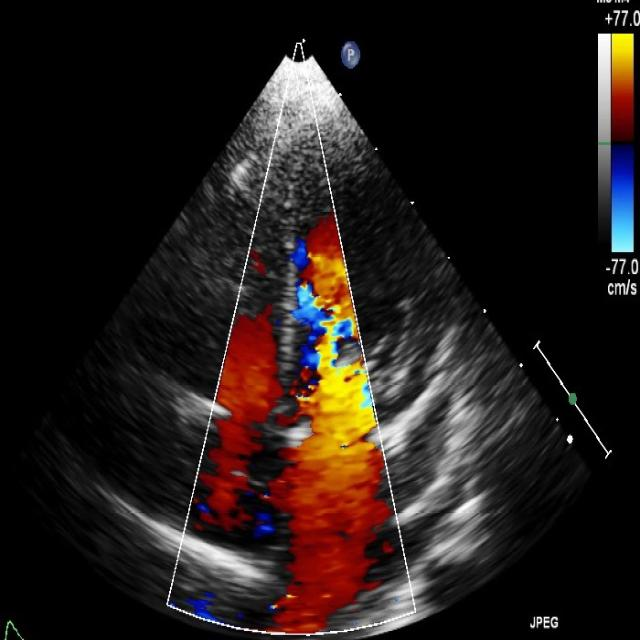ASDType2: (255, 430, 392, 566)
